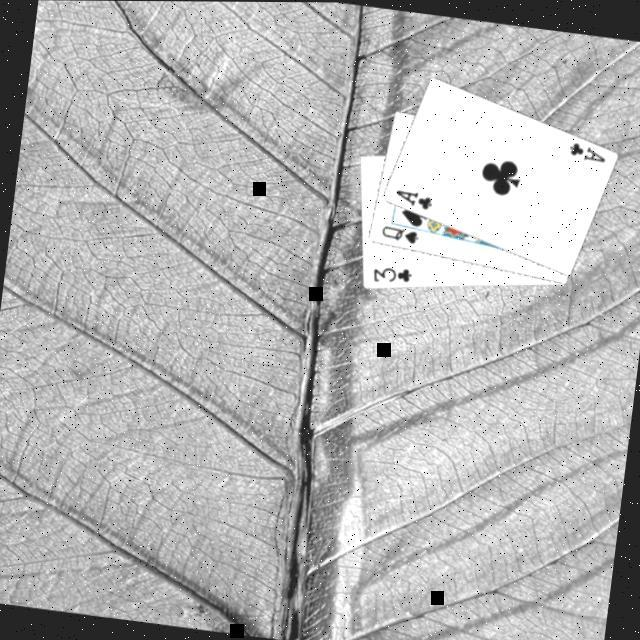3C: (366, 262, 413, 289)
AC: (563, 139, 608, 166), (389, 187, 433, 214)
QS: (374, 223, 419, 248)
